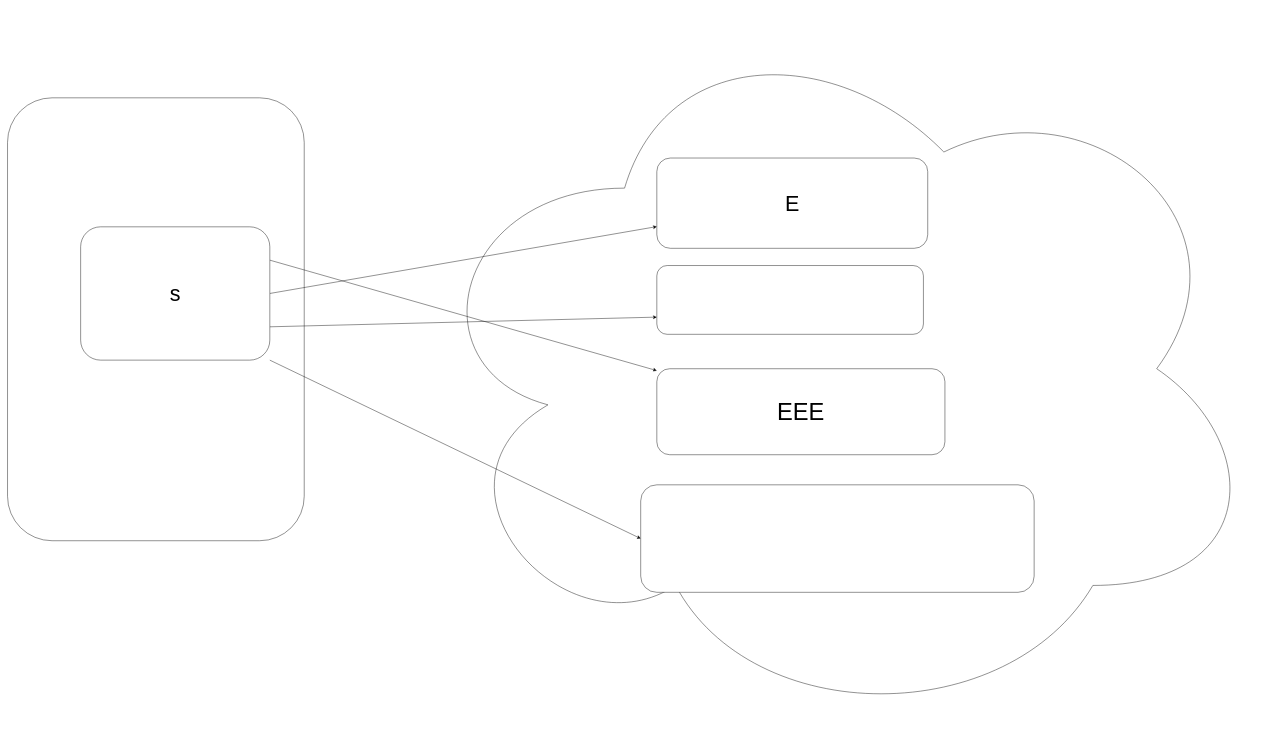
Image size: 1271x737. Some labels were removed from this diagram. Each missing label, with the centre of its shape:
EE: point (789, 299)
EEEE: point (837, 538)
